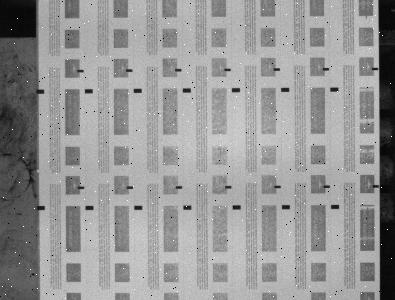backgroundclutter: (31, 273, 35, 276)
qblock: (183, 205, 192, 210), (37, 205, 45, 210), (134, 205, 142, 210), (331, 204, 339, 209), (36, 89, 44, 94), (281, 87, 289, 92), (134, 88, 142, 93), (330, 87, 339, 91), (233, 205, 241, 209), (282, 205, 290, 209), (85, 206, 93, 210), (85, 89, 93, 93), (232, 88, 240, 92), (183, 88, 191, 92)
smallqblock: (225, 185, 232, 189), (175, 68, 182, 72), (323, 185, 330, 188), (274, 185, 281, 188), (126, 69, 133, 72), (77, 69, 84, 72), (273, 68, 280, 71), (224, 68, 231, 71), (373, 185, 379, 188), (176, 186, 182, 189), (127, 186, 133, 189), (78, 186, 84, 189), (372, 67, 378, 70), (323, 68, 329, 71)
